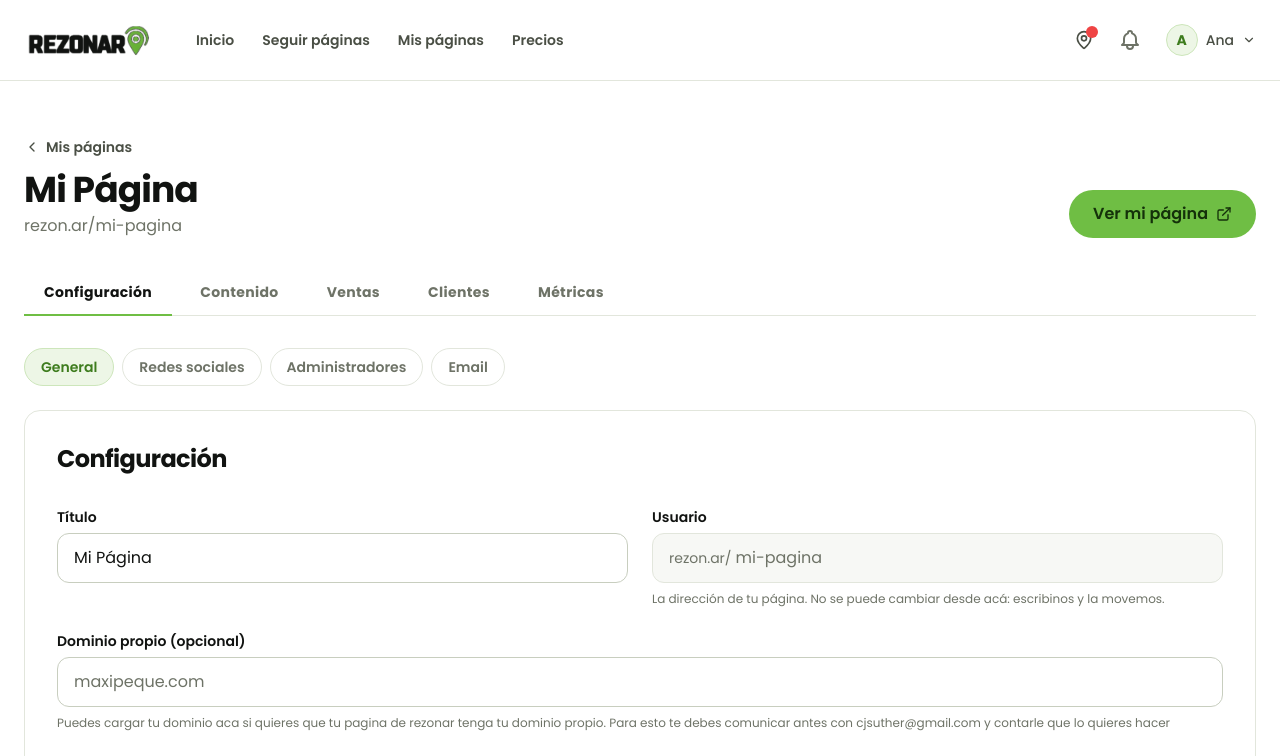
PageEditor › carga › ventas agrupa entradas, productos y la configuración de cobros
Expected: the heading "Mi Página" is shown, [24,170,198,210]
Click the button "Ventas". click: (353, 293)
box: [307,270,400,316]
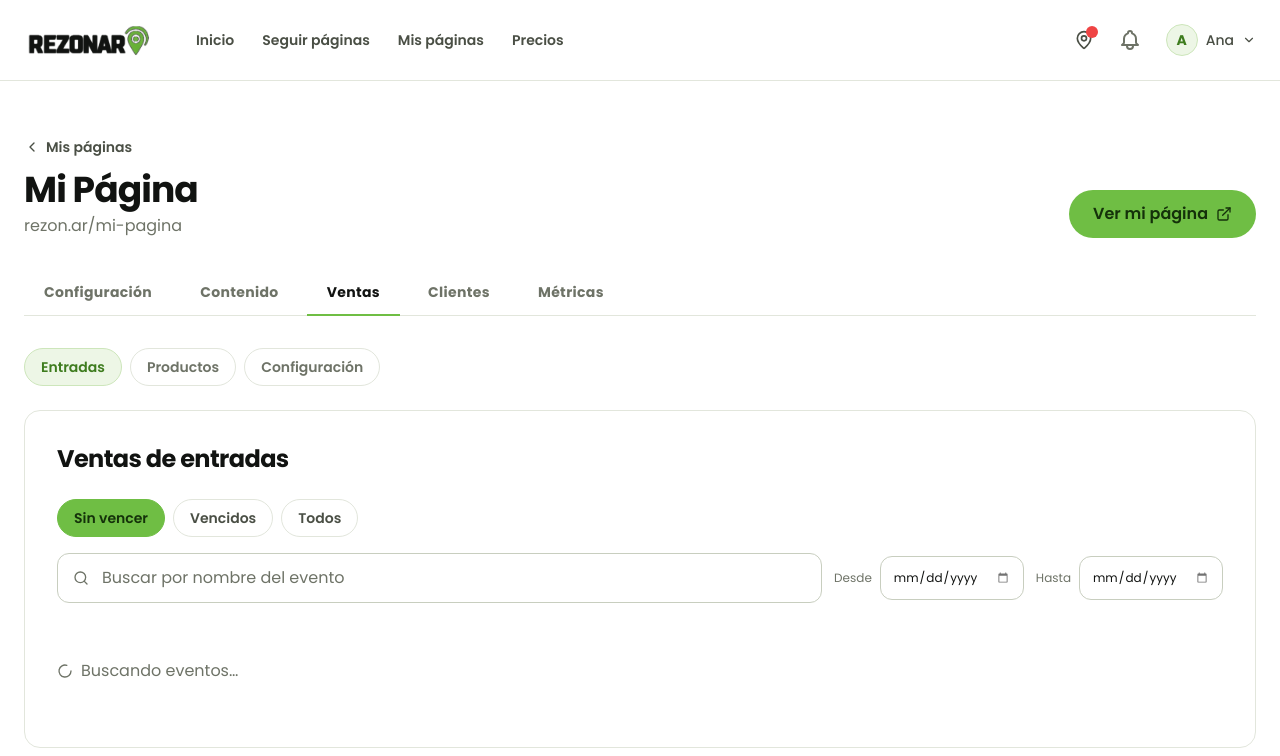
Expected: the heading "Ventas de entradas" is shown, [57,442,289,475]
Click the button "Productos". click: (183, 367)
box: [130,348,236,386]
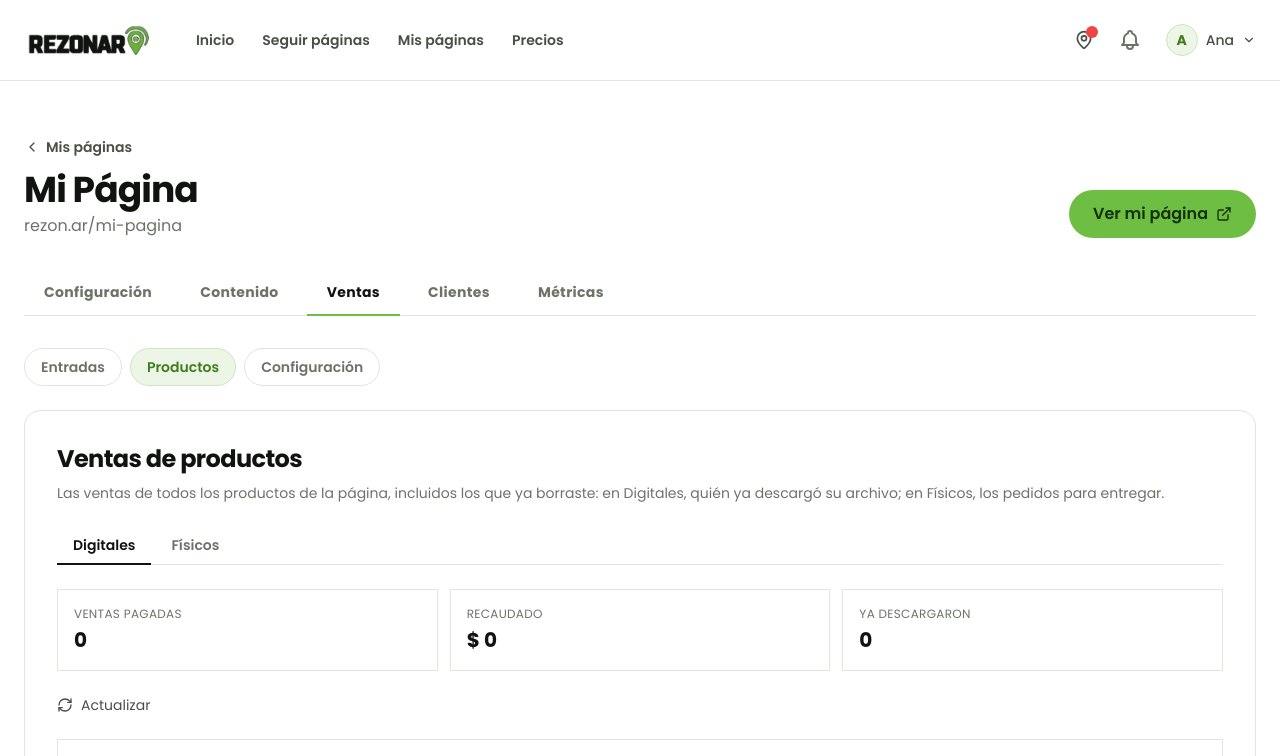
Expected: the heading "Ventas de productos" is shown, [57,442,302,475]
Click the 2nd button "Configuración". click: (312, 367)
box: [244,348,380,386]
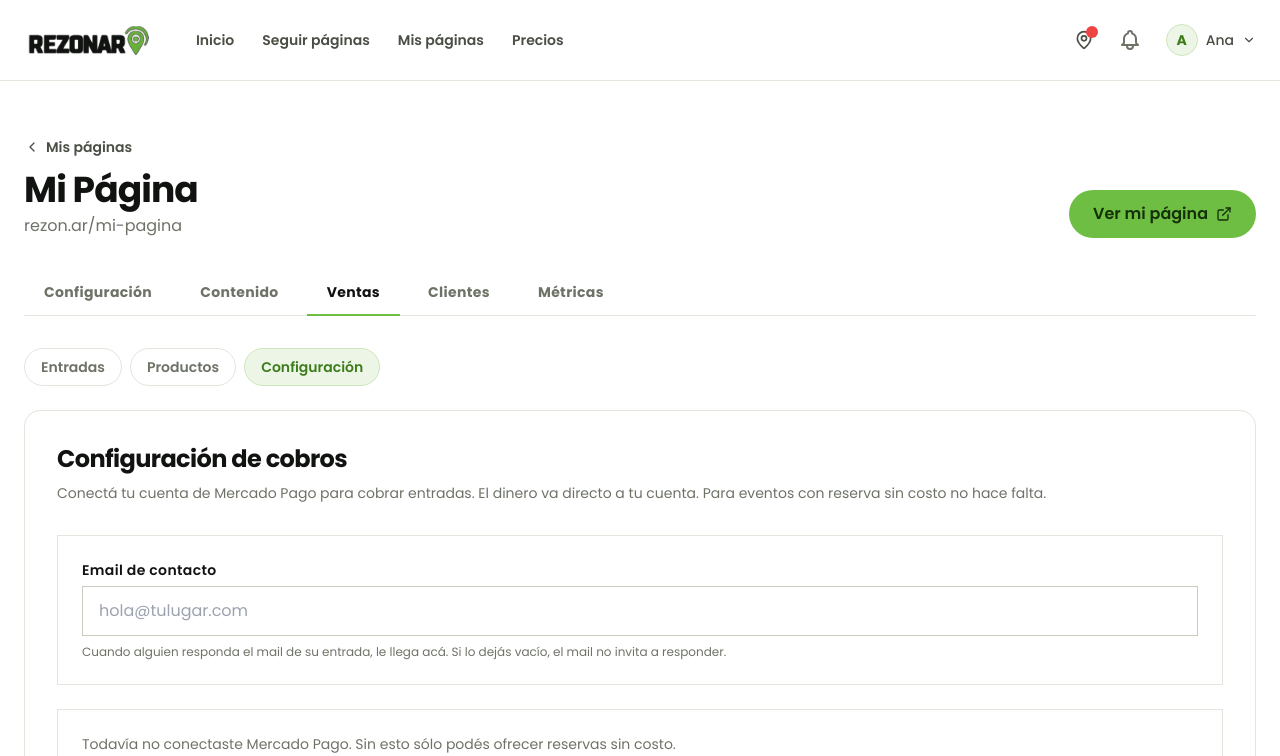
Expected: the heading "Configuración de cobros" is shown, [57,442,347,475]
